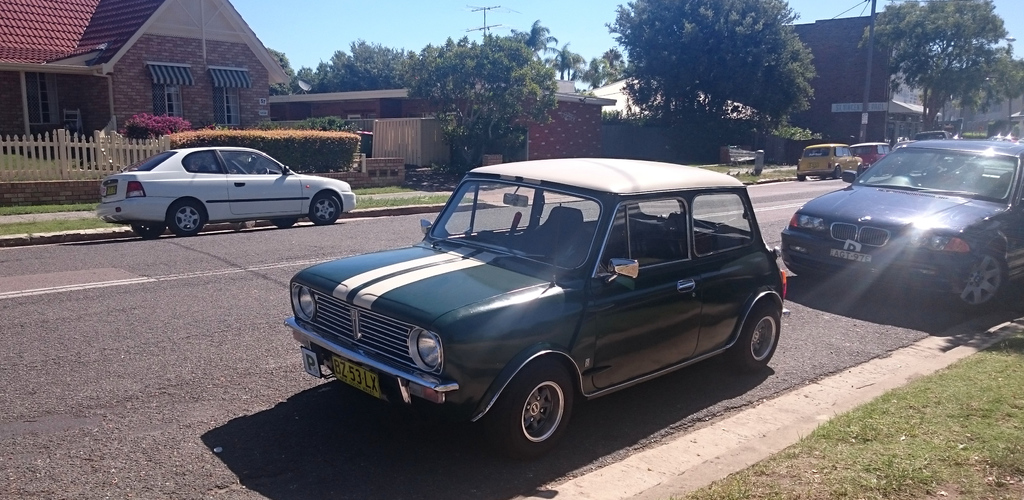Car: (279, 157, 780, 464), (776, 137, 1023, 309), (90, 144, 357, 240), (796, 145, 851, 177), (848, 144, 888, 172)
